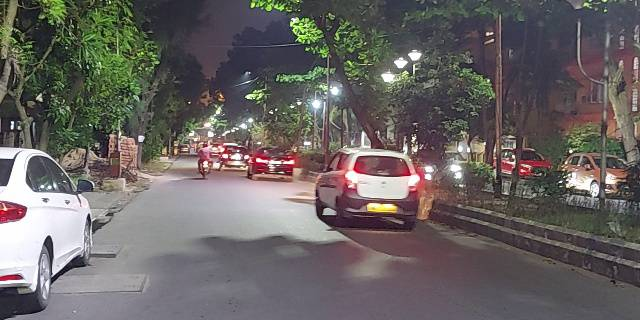Car: (313, 147, 420, 229), (247, 144, 297, 184)
Motorbike: (195, 137, 215, 179)
